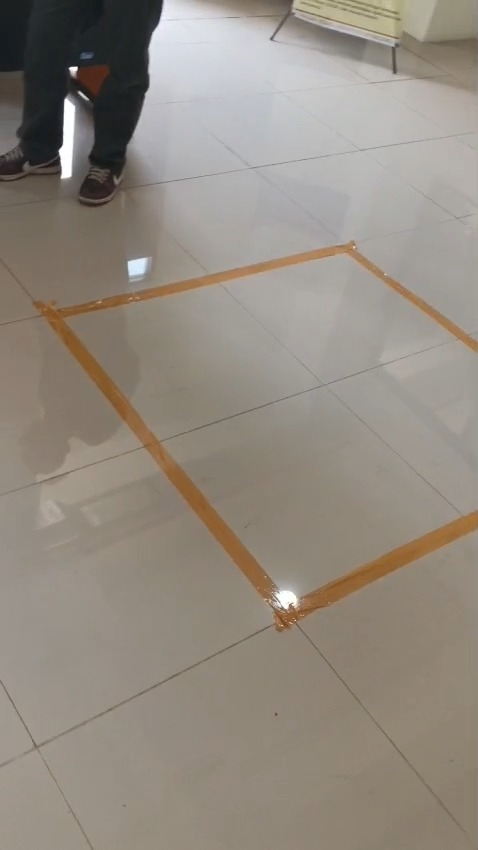floor marking: (36, 241, 477, 630)
